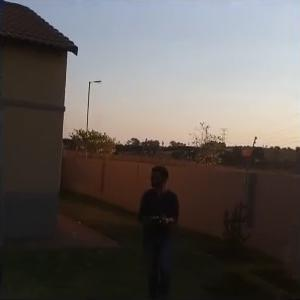follow: (134, 162, 183, 298)
